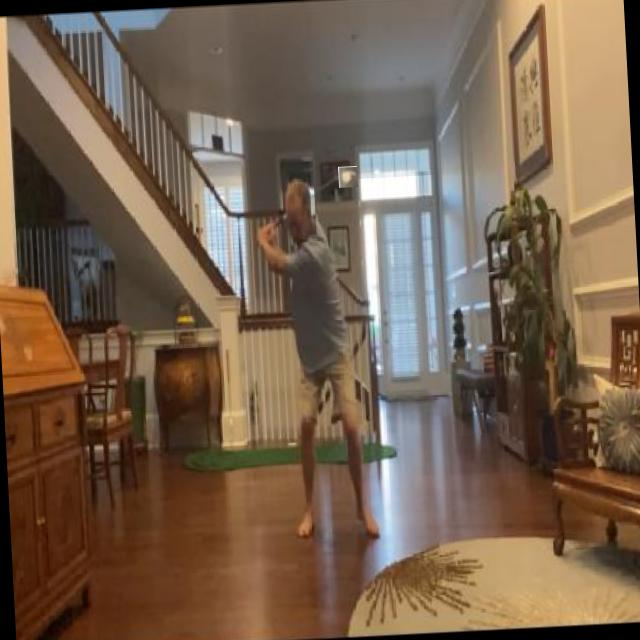club head: (338, 166, 358, 188)
